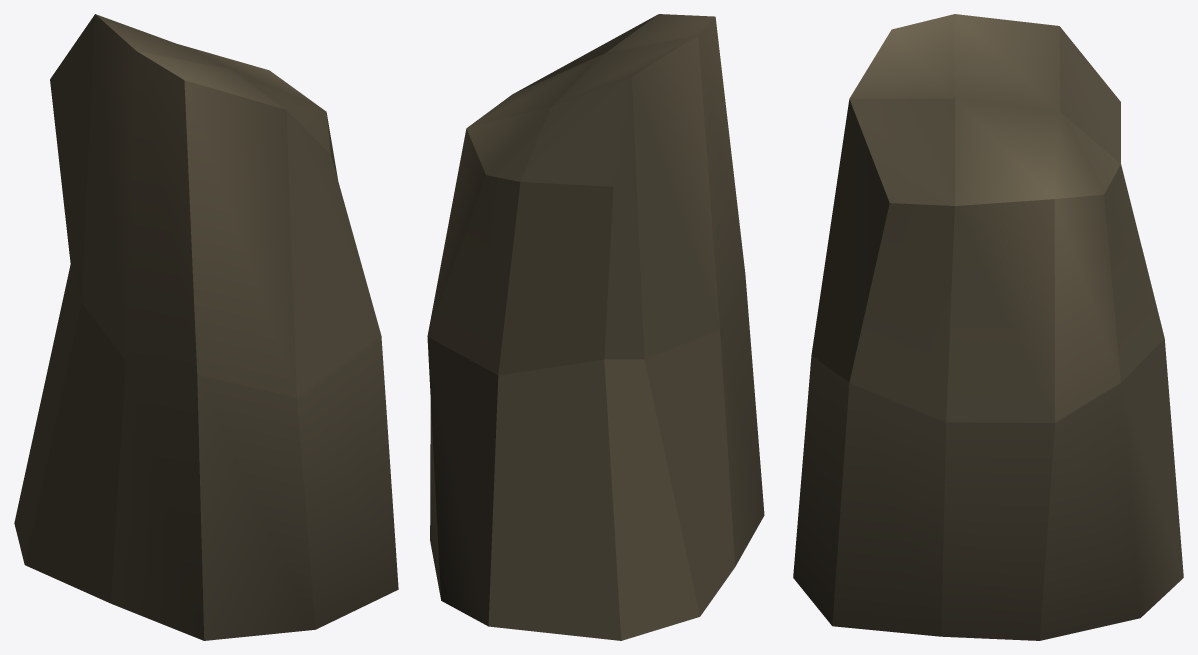
Rendered from TallRock1.fbx.
The picture shows the model from 3 angles, left to right: view 1: azimuth 30°, elevation 25°; view 2: azimuth 150°, elevation 25°; view 3: azimuth 270°, elevation 25°; orthographic projection. The views are drawn at different scales.
Parts seen in each view (by area): view 1: Cube; view 2: Cube; view 3: Cube.
Boxes of the visible parts, left/top/right/bottom form: Cube: left=14, top=14, right=398, bottom=640; Cube: left=427, top=14, right=764, bottom=640; Cube: left=793, top=14, right=1183, bottom=640.
Size of the model in its own units: 302 by 551 by 370.
